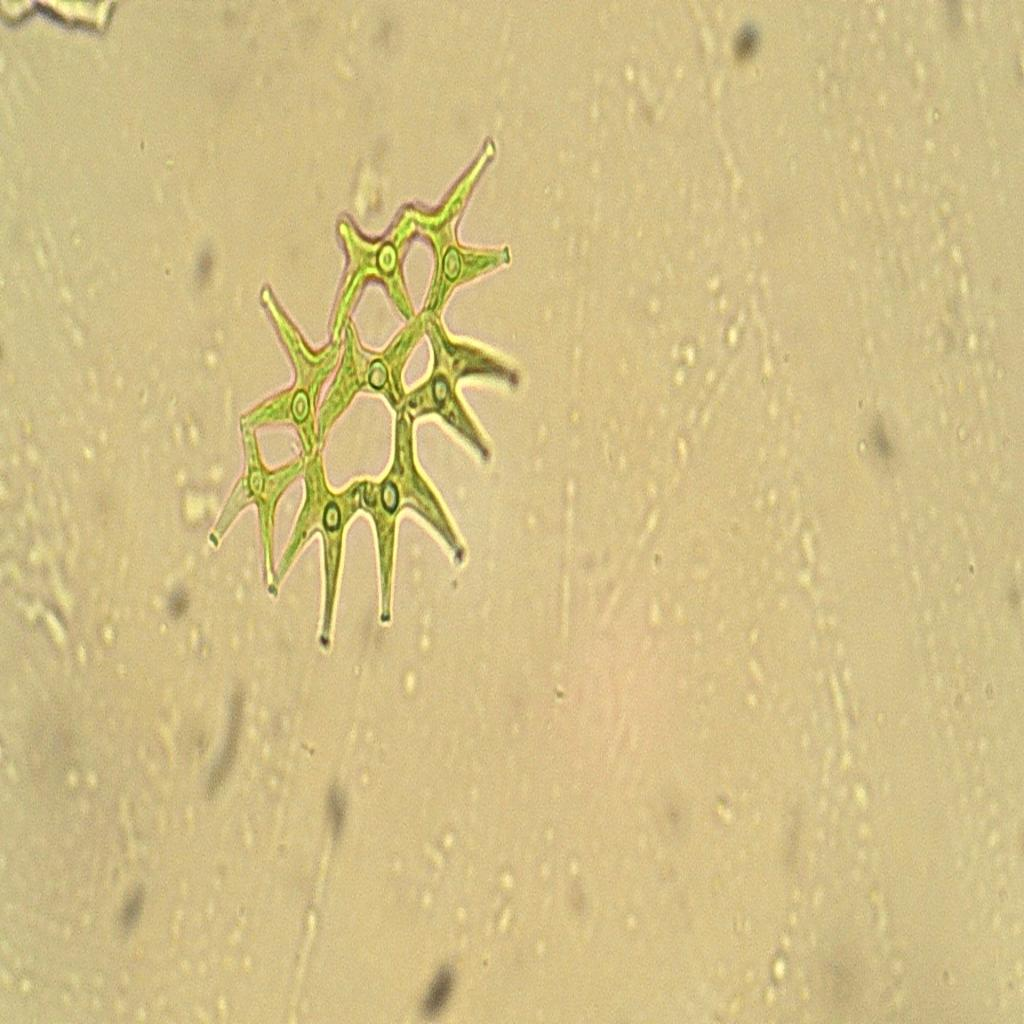Pediastrum_CFI: (195, 117, 557, 661)
